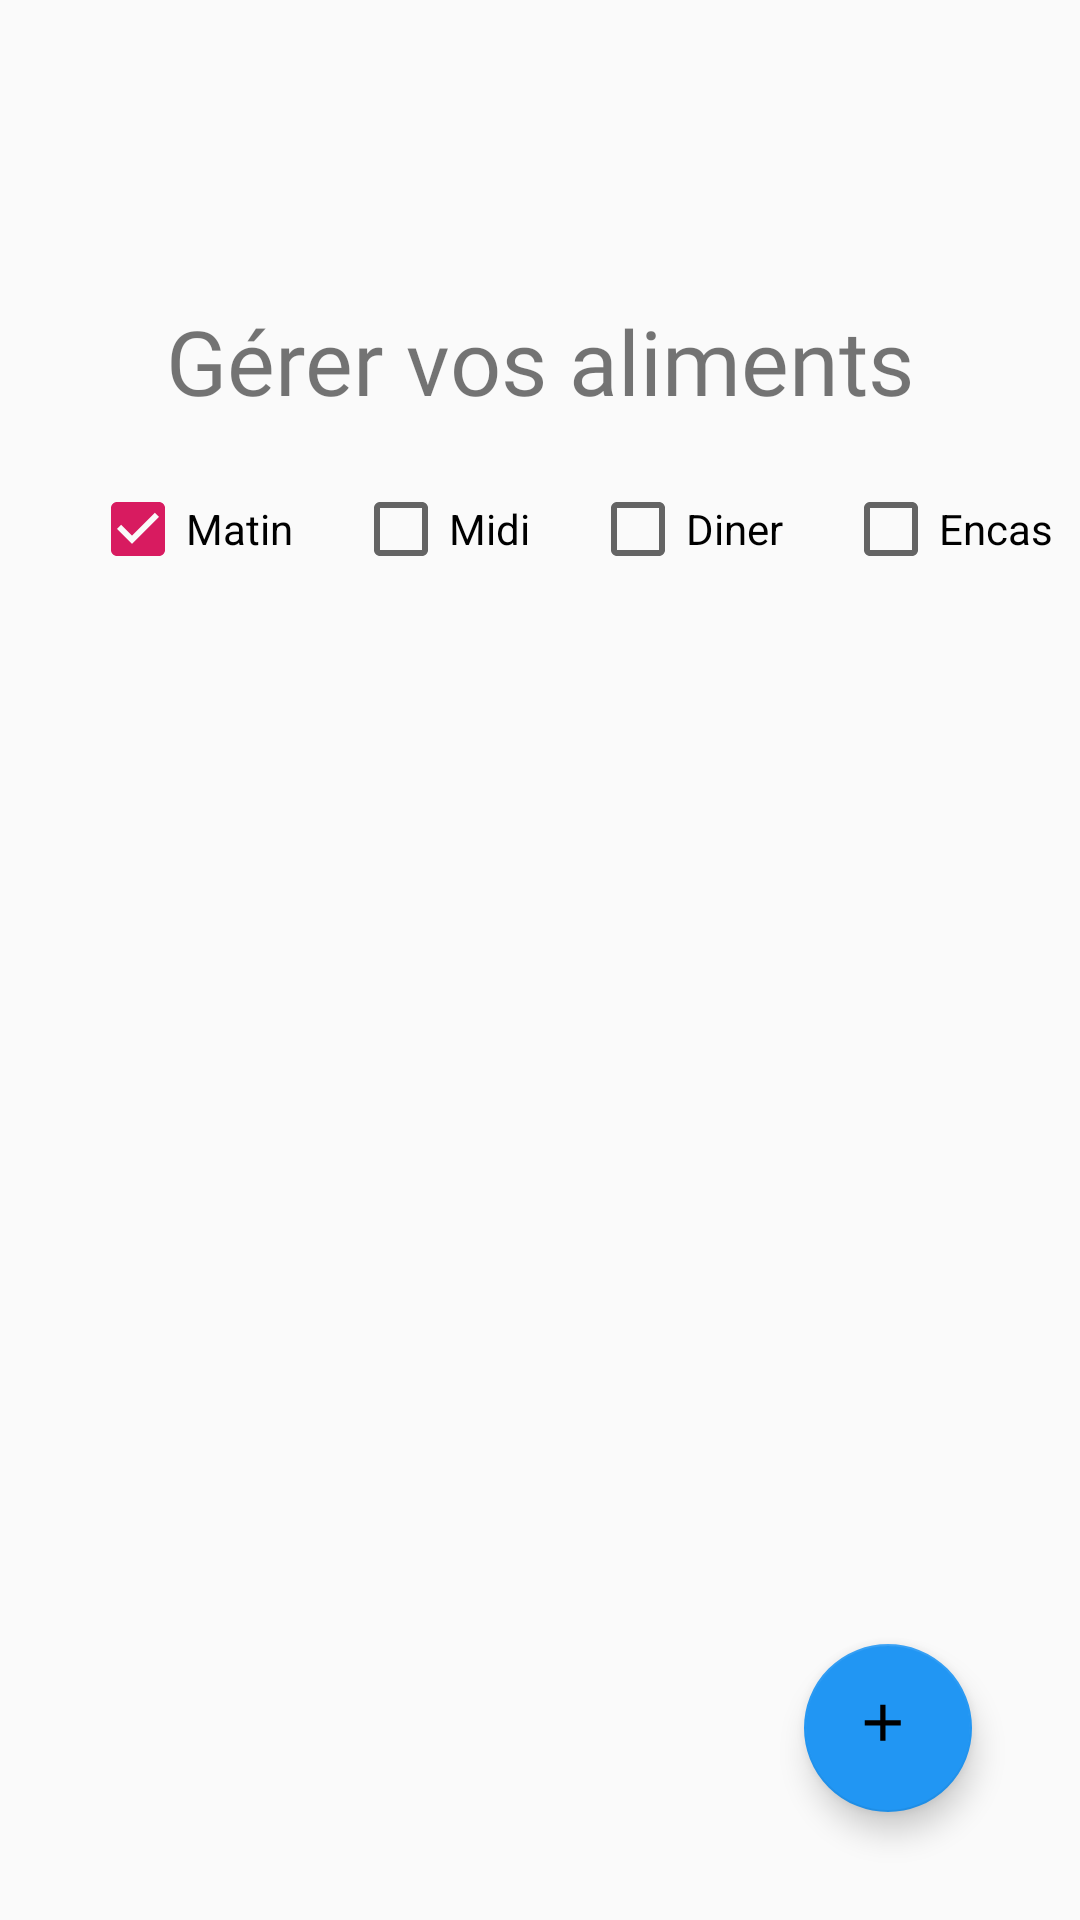

Icon bounding boxes for this 1080px x 1920px phone screenshot, format [left=x1, top=y1, right=x2, bottom=y2]:
plus: [left=804, top=1644, right=972, bottom=1812]
